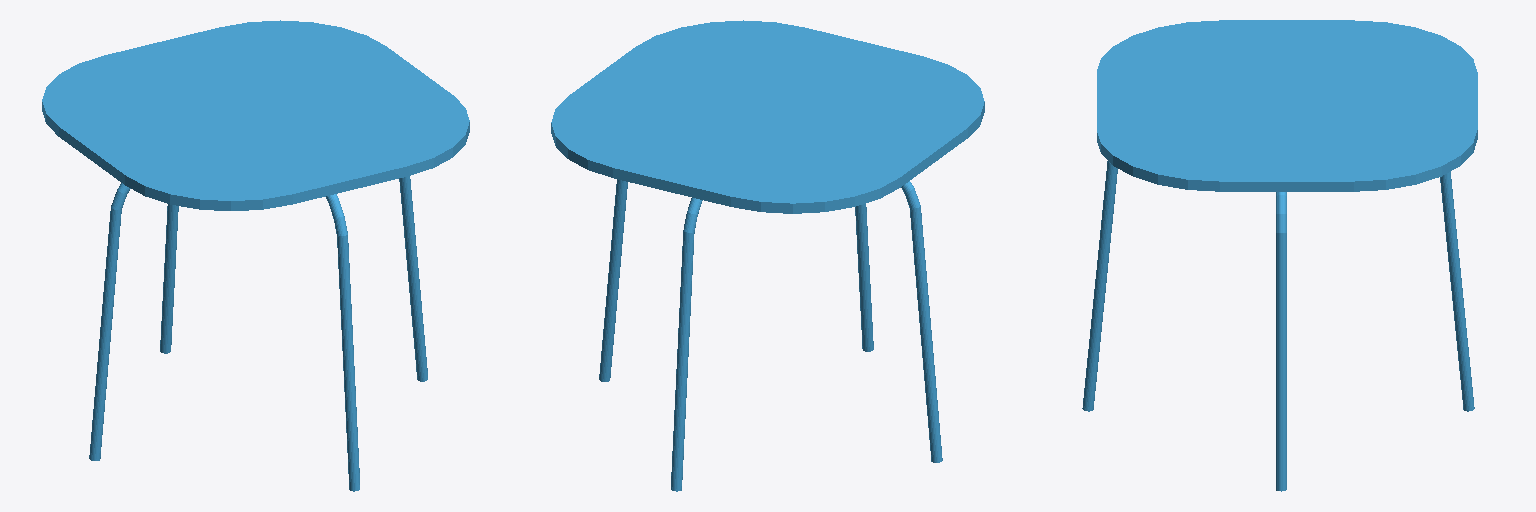
The robot description file, URDF, robot "dining_table_robot":
<?xml version="1.0" ?>
<robot name="dining_table_robot" xmlns:xacro="http://ros.org/wiki/xacro">

    <link name="world" />

    <link name="dining_table_link">
        <visual>
            <origin rpy="0 0 0" xyz="-1.5575628280639648 1.7635917663574219 -0.9648744463920593"/>
            <geometry>
                <mesh filename="fusion_table_1_obj0_object.obj" scale="0.02 0.02 0.02" />
            </geometry>
        </visual>
        <collision>
            <origin rpy="0 0 0" xyz="-1.5575628280639648 1.7635917663574219 -0.9648744463920593"/>
            <geometry>
                <mesh filename="fusion_table_1_obj0_object.obj" scale="0.02 0.02 0.02" />
            </geometry>
        </collision>
        <inertial>
            <mass value="30.455"/>
            <origin xyz="0 0 0"/>
            <inertia ixx="0.6022" ixy="-0.02364" ixz="-0.1197" iyy="1.7386" iyz="-0.001544" izz="2.0296"/>
        </inertial>
    </link>

    <joint name="joint_structure" type="fixed">
        <origin xyz="0.880 -1.48 -2.100" rpy="1.57079 0 0" />
        <parent link="world" />
        <child link="dining_table_link" />
    </joint>

</robot>

--- Facts derived from the render (not from the file) ---
Views: 3 orthographic renders of the robot side by side, from view 1: azimuth 30°, elevation 25°; view 2: azimuth 150°, elevation 25°; view 3: azimuth 270°, elevation 25°.
Model dining_table_robot with 2 links and 1 joints (1 fixed), rooted at world, posed every joint at zero.
Links seen in each view (by area): view 1: dining_table_link; view 2: dining_table_link; view 3: dining_table_link.
Link boxes in pixels (bbox=[...]): dining_table_link: bbox=[42, 20, 469, 491]; dining_table_link: bbox=[551, 20, 984, 491]; dining_table_link: bbox=[1082, 20, 1477, 491].
Size in the robot's own frame: 0.6809 by 0.6859 by 0.5911 metres.
Meshes: 1 distinct files referenced, 1 mesh visuals loaded (1 OBJ).